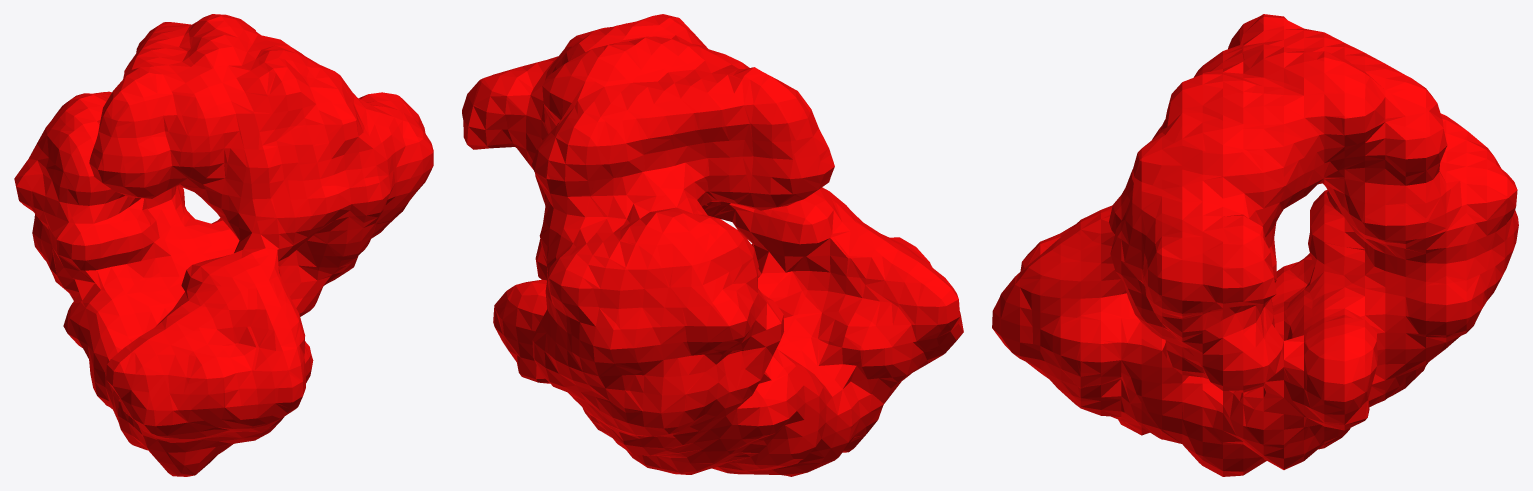
Rendered from yjiY_coarse.dae.
3 views of the same model, side by side, from view 1: azimuth 30°, elevation 25°; view 2: azimuth 150°, elevation 25°; view 3: azimuth 270°, elevation 25° (orthographic). The views are drawn at different scales.
Visible parts, largest first — view 1: yjiY; view 2: yjiY; view 3: yjiY.
Boxes of the visible parts, left/top/right/bottom form: yjiY: left=14, top=14, right=433, bottom=476; yjiY: left=462, top=14, right=963, bottom=476; yjiY: left=992, top=14, right=1518, bottom=476.
Size of the model in its own units: 83.03 by 82.12 by 88.9.
